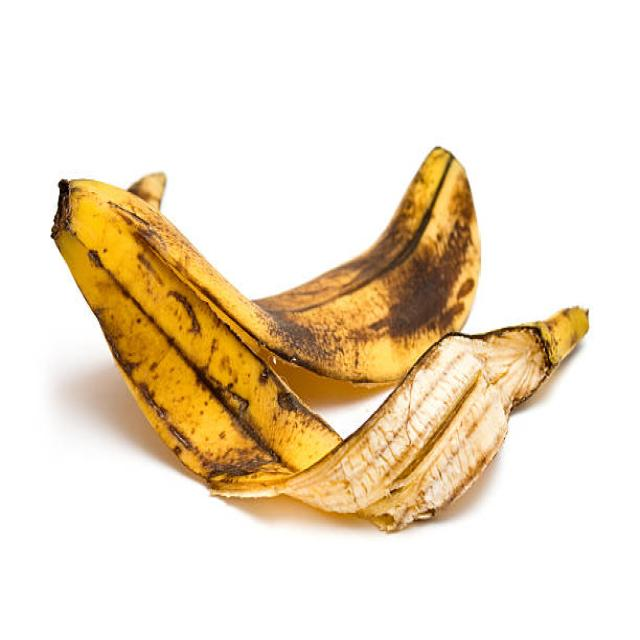banana_peel: (44, 133, 603, 561)
